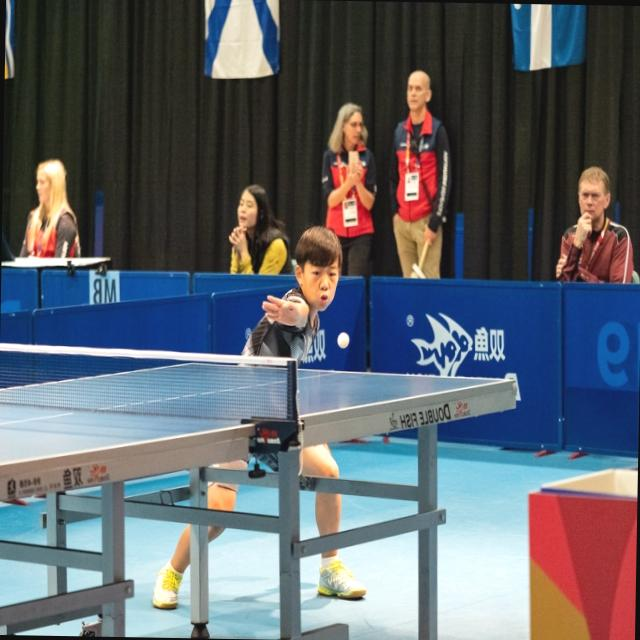TT Net: (0, 332, 305, 430)
TT Table: (0, 315, 513, 467)
